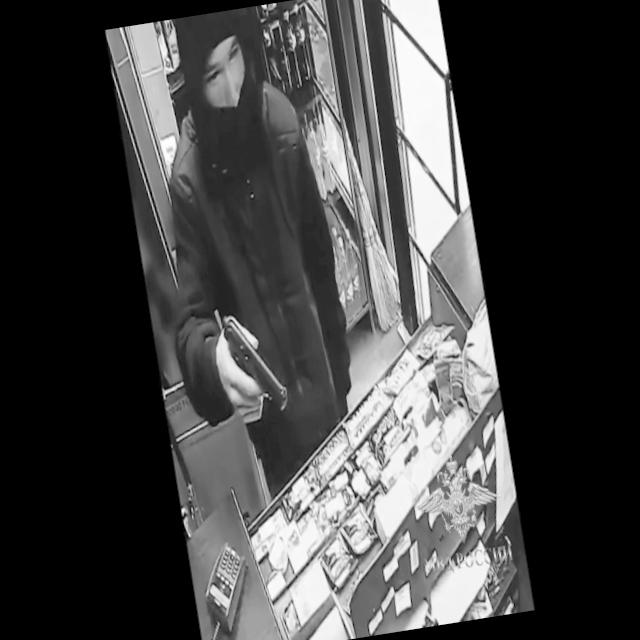gun: (212, 311, 292, 431)
person with a gun: (123, 0, 372, 517)
